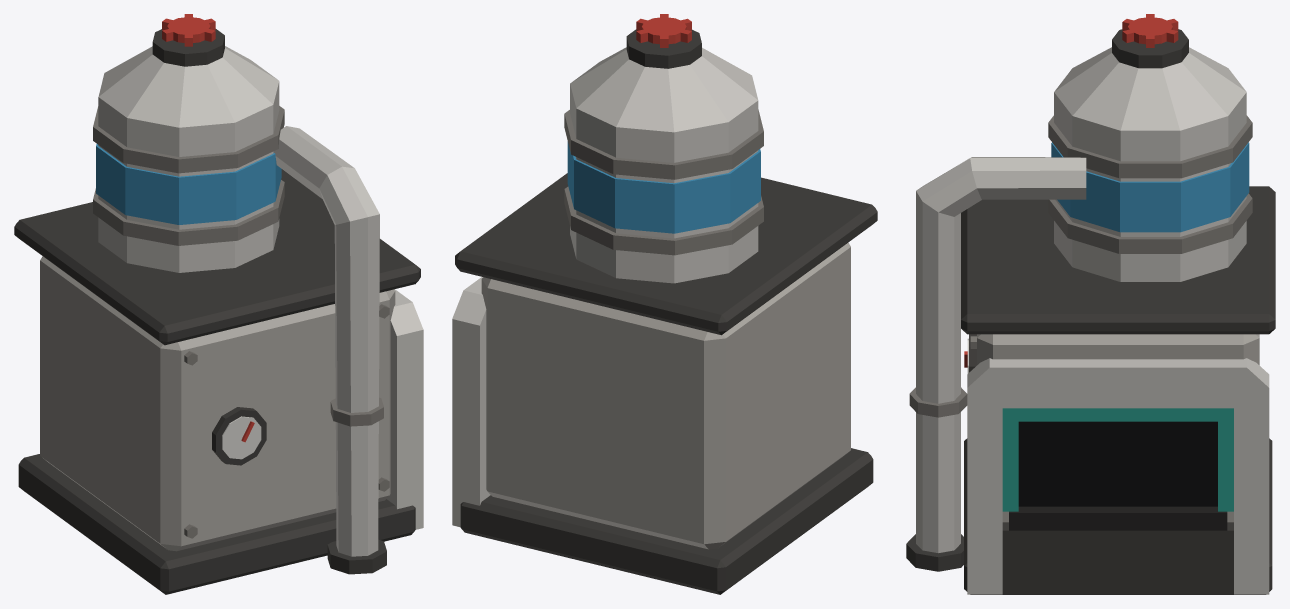
Rendered from pump.fbx.
3 renders of one model, left to right at view 1: azimuth 30°, elevation 25°; view 2: azimuth 150°, elevation 25°; view 3: azimuth 270°, elevation 25°, orthographic. The views are drawn at different scales.
Visible parts, largest first — view 1: pump; view 2: pump; view 3: pump.
Boxes of the visible parts, x1=… form: pump: x1=14, y1=14, x2=423, y2=594; pump: x1=452, y1=14, x2=877, y2=594; pump: x1=906, y1=14, x2=1275, y2=594.
Bounding box in the file's own units: 2.97 × 5.15 × 3.45.
